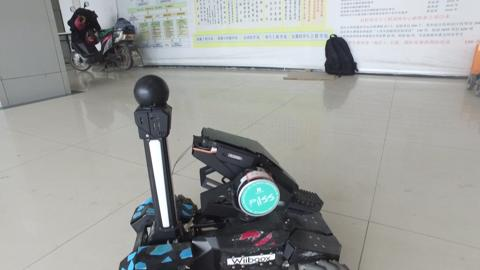chariot: (119, 93, 337, 267)
